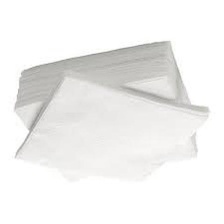tissue: (6, 35, 216, 191)
